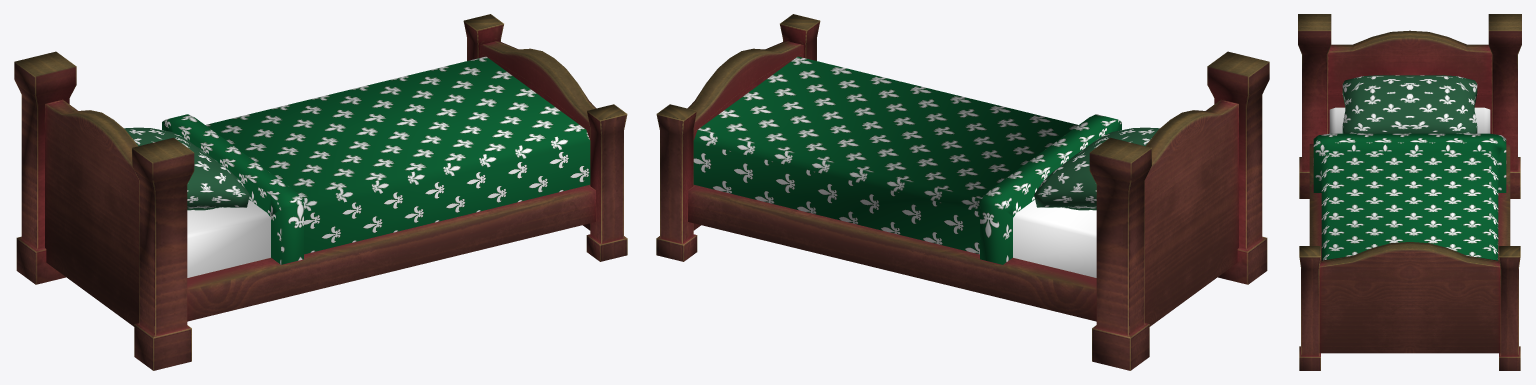
Rendered from bed.glb.
3 renders of one model, left to right at view 1: azimuth 30°, elevation 25°; view 2: azimuth 150°, elevation 25°; view 3: azimuth 270°, elevation 25°, orthographic. The views are drawn at different scales.
Visible parts, largest first — view 1: Object_2; view 2: Object_2; view 3: Object_2.
Boxes of the visible parts, x1=… form: Object_2: x1=14, y1=14, x2=627, y2=370; Object_2: x1=656, y1=14, x2=1269, y2=370; Object_2: x1=1298, y1=14, x2=1521, y2=370.
Bounding box in the file's own units: 1.96 × 0.8229 × 0.9865.
1 material, 1 textured.
